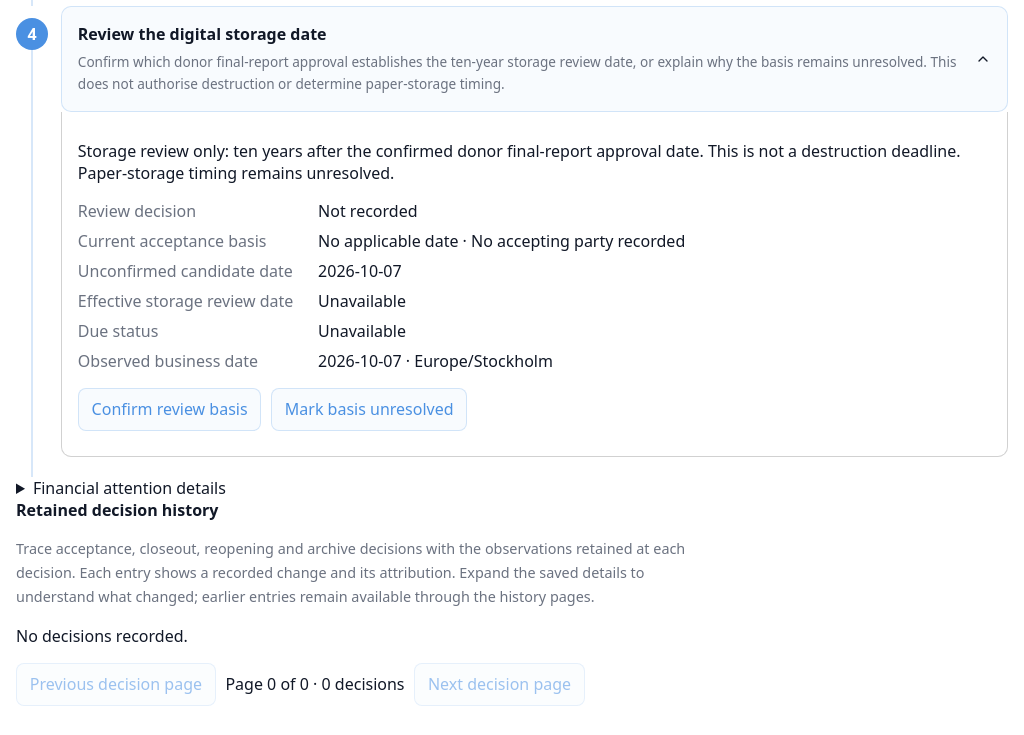
archive stale failure retains reason and requires deliberate revision review
The width and height of the screenshot is (1024, 735).
(page scrolled)
Click the button "Confirm review basis".
click(170, 409)  # box [78, 388, 261, 431]
(page scrolled)
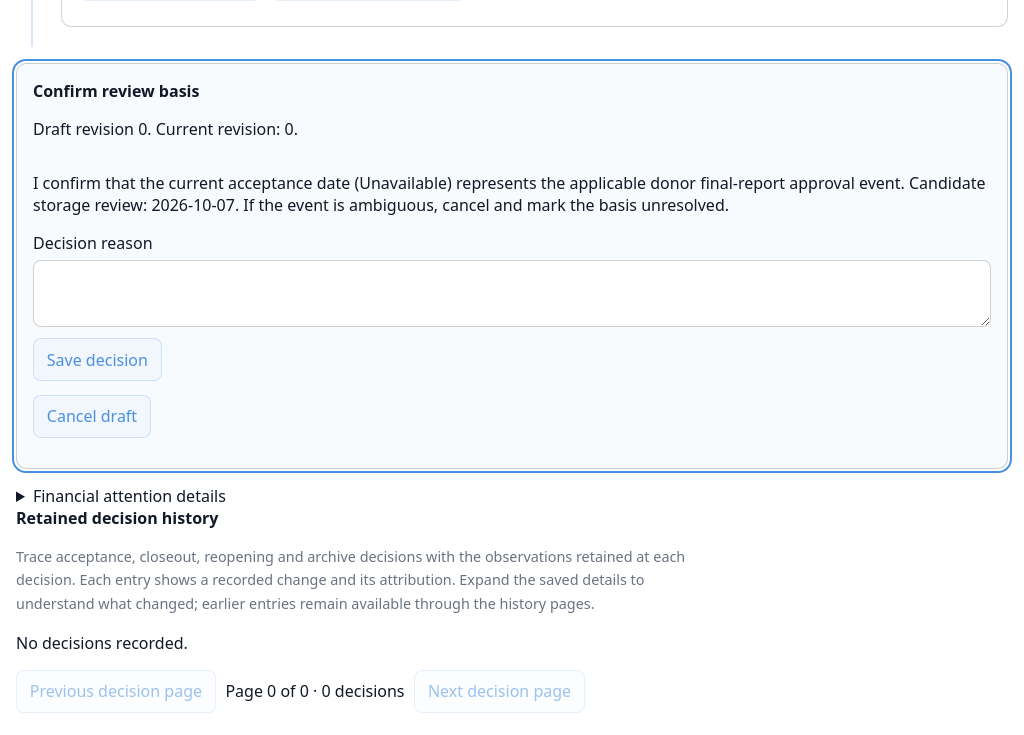
Type "Reviewed the project" into the text box labelled "Decision reason".
click(512, 293); type("Reviewed the project")  # box [33, 260, 991, 327]
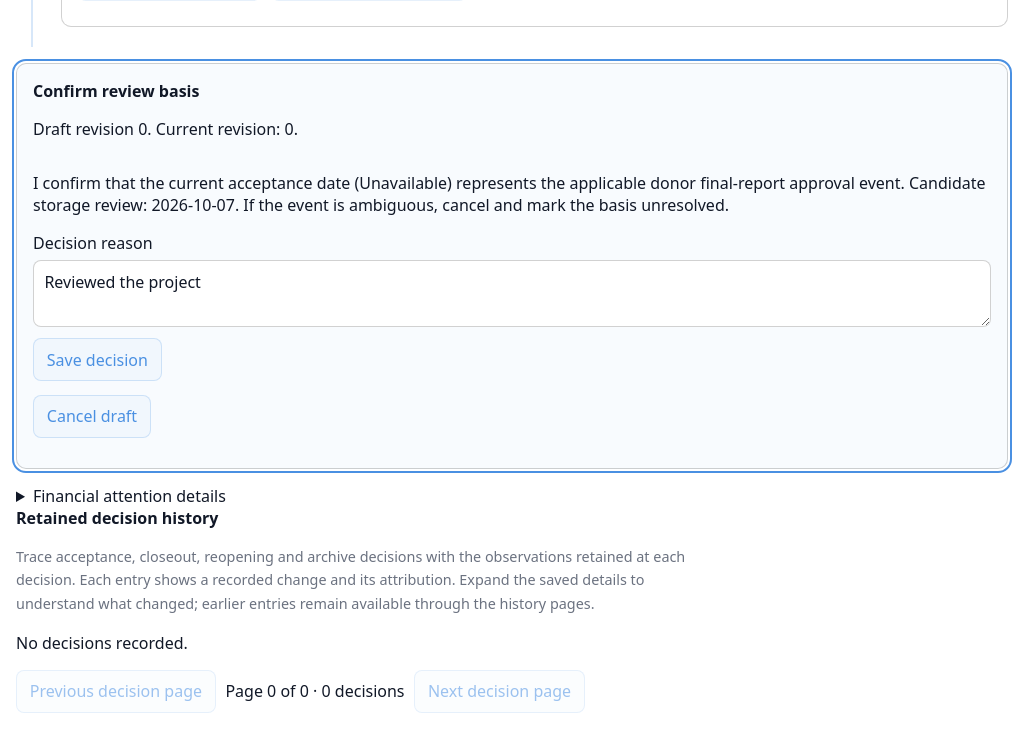
Click the button "Save decision".
click(97, 360)  # box [33, 338, 162, 381]
(page scrolled)
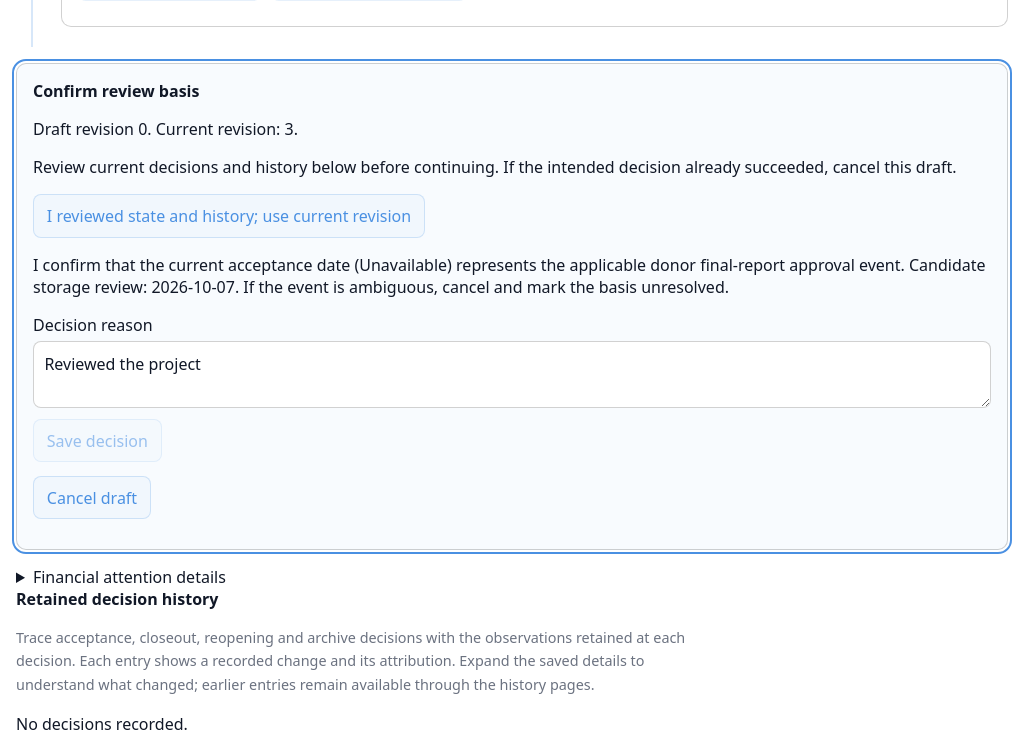
Expected: the button "Save decision" is disabled, [33, 419, 162, 462]
